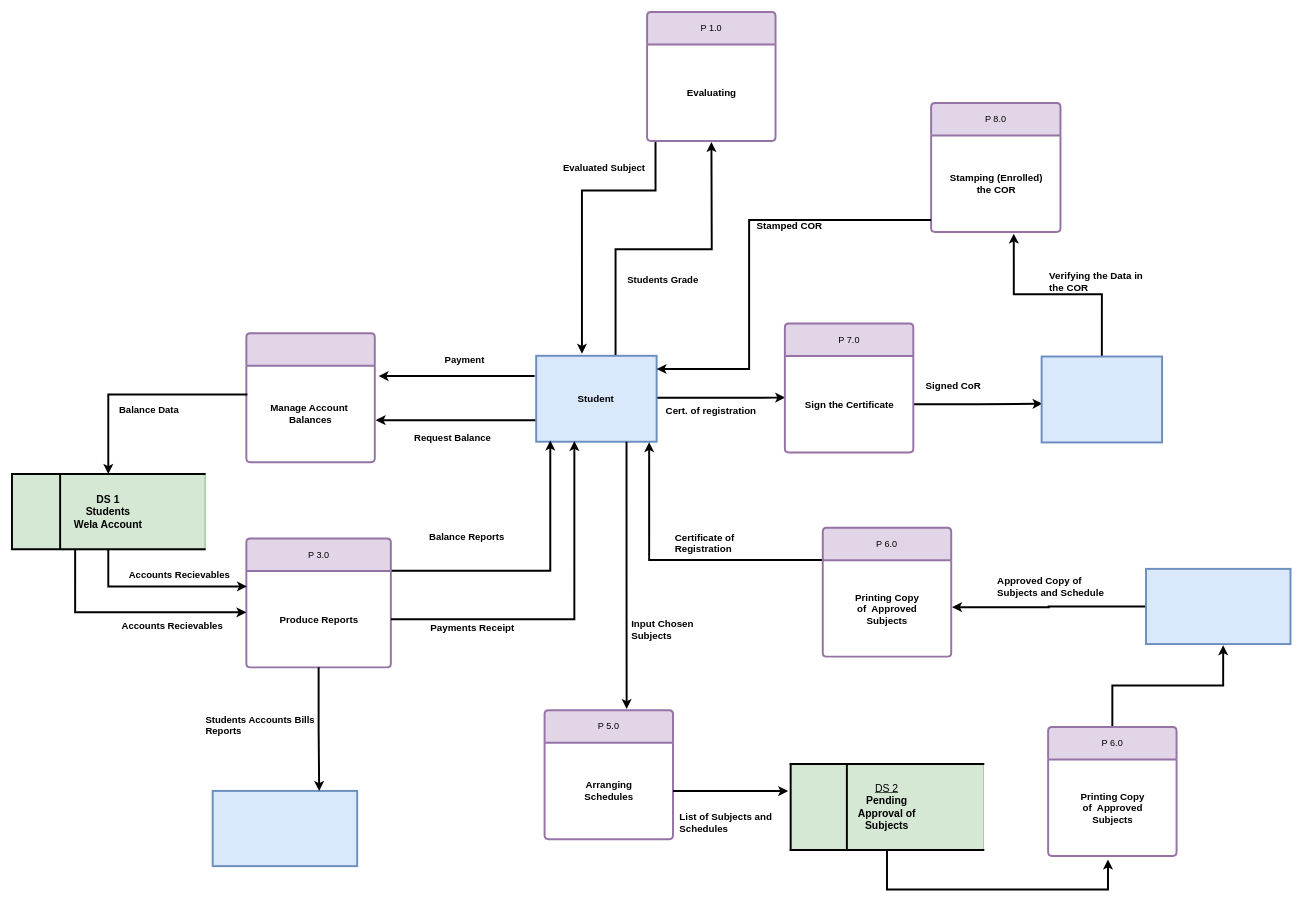
Image size: 1303x907. Some labels were removed from this diagram. The box of each missing label's shape, as (x1, y1, x2, y2) in pixels:
Accounting Office: (211, 790, 358, 867)
Dean: (1145, 568, 1291, 645)
P 2.0: (245, 332, 375, 463)
Registrar: (1040, 355, 1163, 443)
